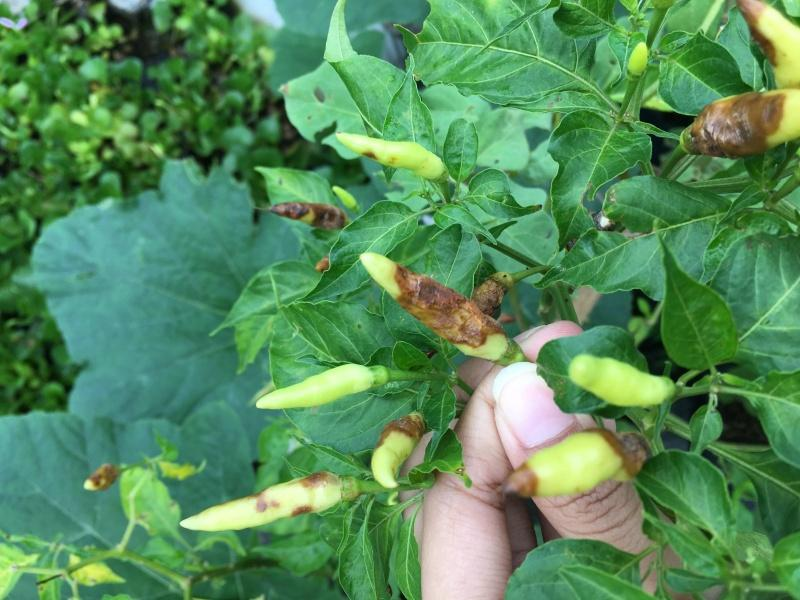antraknosa: (360, 252, 510, 367), (180, 471, 344, 533), (497, 427, 631, 500), (681, 88, 800, 157), (336, 132, 444, 184), (373, 406, 429, 488), (264, 200, 349, 232)
cabai_normal: (254, 363, 376, 412), (569, 354, 668, 408)
